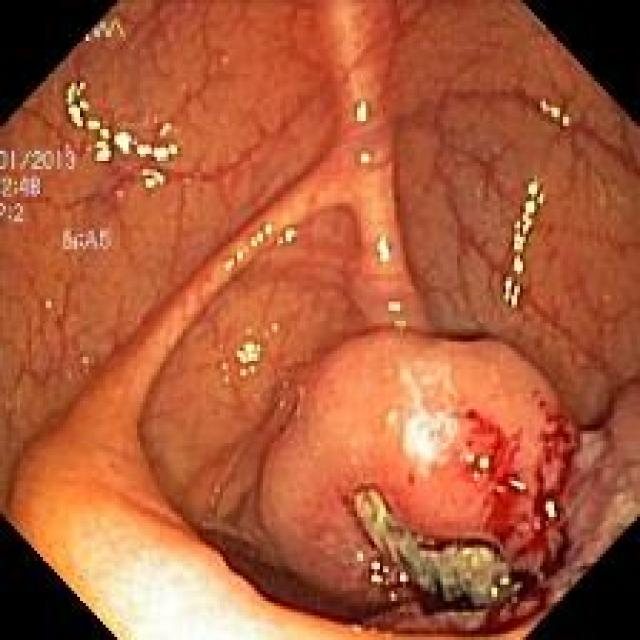Polyps: (198, 331, 576, 635)
